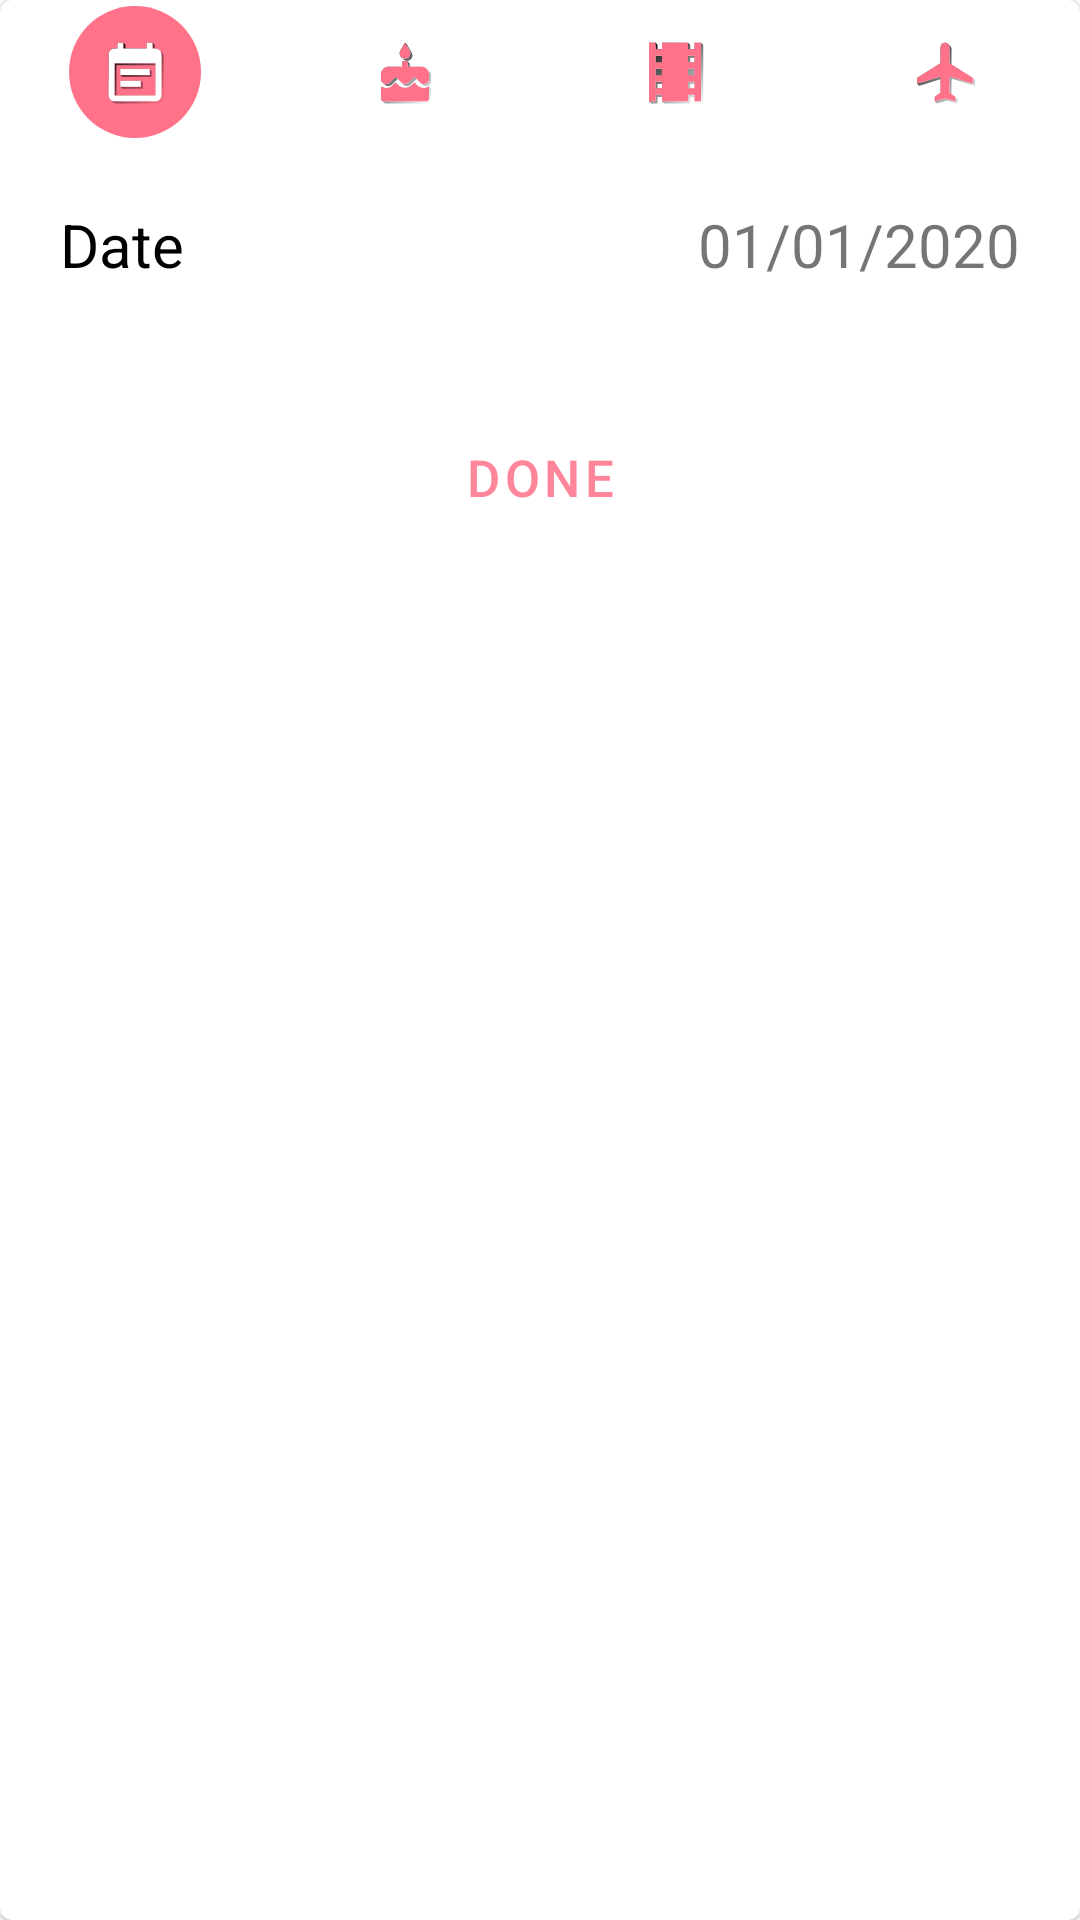

Icons on this 1080px×1920px Android screen, each with its box as (x1, y1, x2, y2):
cakebl: (381, 43, 431, 104)
event: (0, 6, 201, 138)
moviebl: (649, 42, 704, 104)
